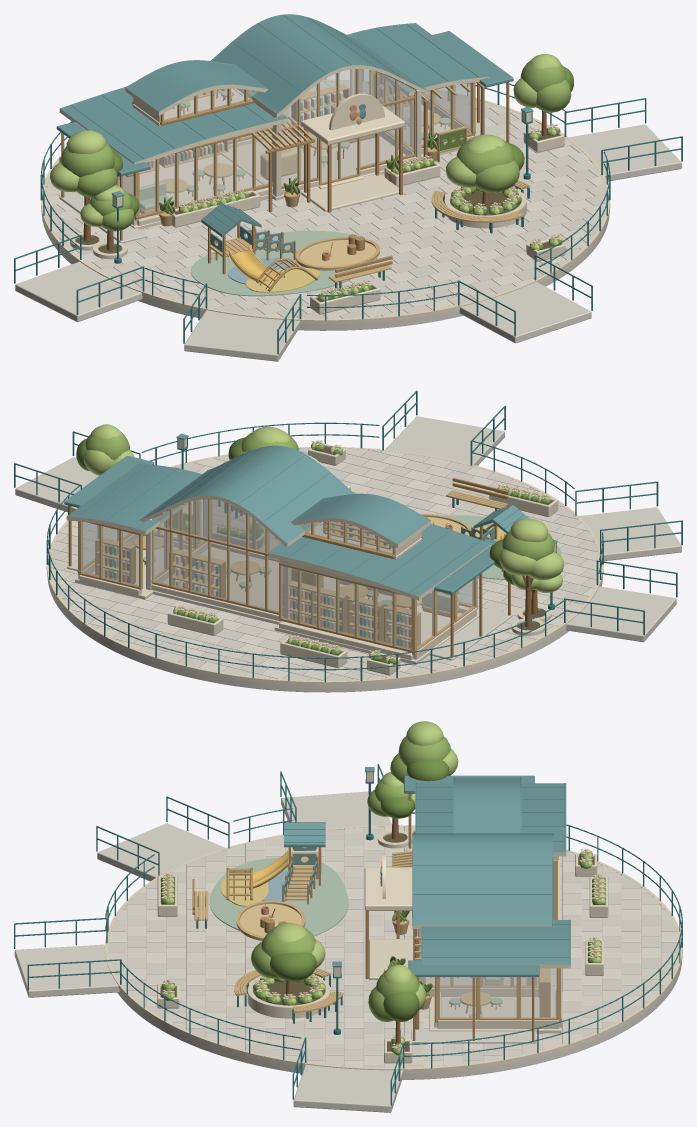
Rendered from parent-child-centre.glb.
The picture shows the model from 3 angles, top to bottom: view 1: azimuth 30°, elevation 25°; view 2: azimuth 150°, elevation 25°; view 3: azimuth 270°, elevation 25°; orthographic projection. The views are drawn at different scales.
Visible parts, largest first — view 1: SiteAndBridgeStubs_Components__stone, SiteAndBridgeStubs_Components__LimestonePaver_3.001, SiteAndBridgeStubs_Components__LimestonePaver_0.001, SiteAndBridgeStubs_Components__LimestonePaver_1.001, SiteAndBridgeStubs_Components__LimestonePaver_2.001, MainCurvedHall__roof, MainCurvedHall__Clear warm architectural glazing, LeftFamilyReadingWing__roof, SiteAndBridgeStubs_Components__rail, LeftFamilyReadingWing__Clear warm architectural glazing, RightCareWing__roof, SiteAndBridgeStubs_Components__cream (+47 smaller); view 2: SiteAndBridgeStubs_Components__stone, MainCurvedHall__Clear warm architectural glazing, SiteAndBridgeStubs_Components__LimestonePaver_0.001, MainCurvedHall__roof, SiteAndBridgeStubs_Components__rail, SiteAndBridgeStubs_Components__LimestonePaver_3.001, SiteAndBridgeStubs_Components__LimestonePaver_1.001, LeftFamilyReadingWing__Clear warm architectural glazing, SiteAndBridgeStubs_Components__LimestonePaver_2.001, LeftFamilyReadingWing__roof, SiteAndBridgeStubs_Components__cream, RightCareWing__roof (+42 smaller); view 3: SiteAndBridgeStubs_Components__stone, SiteAndBridgeStubs_Components__LimestonePaver_3.001, SiteAndBridgeStubs_Components__LimestonePaver_0.001, MainCurvedHall__roof, SiteAndBridgeStubs_Components__LimestonePaver_1.001, SiteAndBridgeStubs_Components__LimestonePaver_2.001, SiteAndBridgeStubs_Components__rail, RightCareWing__roof, SiteAndBridgeStubs_Components__cream, LeftFamilyReadingWing__roof, RightCareWing__Clear warm architectural glazing, UpperLeftDaylightLevel__roof (+28 smaller).
Part boxes in pixels (box(x1,y1,x2,y2)): SiteAndBridgeStubs_Components__stone: box(15, 108, 681, 361); SiteAndBridgeStubs_Components__LimestonePaver_3.001: box(44, 95, 604, 318); SiteAndBridgeStubs_Components__LimestonePaver_0.001: box(45, 91, 606, 313); SiteAndBridgeStubs_Components__LimestonePaver_1.001: box(44, 82, 606, 318); SiteAndBridgeStubs_Components__LimestonePaver_2.001: box(44, 81, 606, 318); MainCurvedHall__roof: box(210, 14, 427, 114); MainCurvedHall__Clear warm architectural glazing: box(229, 69, 413, 185); LeftFamilyReadingWing__roof: box(60, 87, 287, 162); SiteAndBridgeStubs_Components__rail: box(14, 69, 682, 354); LeftFamilyReadingWing__Clear warm architectural glazing: box(116, 131, 272, 214); RightCareWing__roof: box(347, 23, 488, 92); SiteAndBridgeStubs_Components__cream: box(41, 80, 610, 324); SiteAndBridgeStubs_Components__stone: box(15, 416, 681, 692); MainCurvedHall__Clear warm architectural glazing: box(153, 499, 283, 611); SiteAndBridgeStubs_Components__LimestonePaver_0.001: box(50, 453, 599, 680); MainCurvedHall__roof: box(140, 445, 354, 543); SiteAndBridgeStubs_Components__rail: box(14, 390, 682, 682); SiteAndBridgeStubs_Components__LimestonePaver_3.001: box(52, 448, 599, 680); SiteAndBridgeStubs_Components__LimestonePaver_1.001: box(51, 451, 598, 680); LeftFamilyReadingWing__Clear warm architectural glazing: box(281, 566, 473, 649); SiteAndBridgeStubs_Components__LimestonePaver_2.001: box(50, 448, 598, 680); LeftFamilyReadingWing__roof: box(268, 523, 491, 596); SiteAndBridgeStubs_Components__cream: box(46, 447, 603, 685); RightCareWing__roof: box(67, 463, 201, 531); SiteAndBridgeStubs_Components__stone: box(14, 791, 681, 1112); SiteAndBridgeStubs_Components__LimestonePaver_3.001: box(108, 827, 678, 1067); SiteAndBridgeStubs_Components__LimestonePaver_0.001: box(111, 829, 676, 1067); MainCurvedHall__roof: box(412, 833, 553, 925); SiteAndBridgeStubs_Components__LimestonePaver_1.001: box(108, 826, 678, 1067); SiteAndBridgeStubs_Components__LimestonePaver_2.001: box(108, 829, 679, 1067); SiteAndBridgeStubs_Components__rail: box(14, 764, 682, 1105); RightCareWing__roof: box(421, 919, 570, 964); SiteAndBridgeStubs_Components__cream: box(104, 825, 682, 1073); LeftFamilyReadingWing__roof: box(415, 783, 566, 852); RightCareWing__Clear warm architectural glazing: box(440, 968, 556, 1017); UpperLeftDaylightLevel__roof: box(453, 777, 521, 833).
Bounding box in the file's own units: 26.47 × 5.17 × 23.66.
